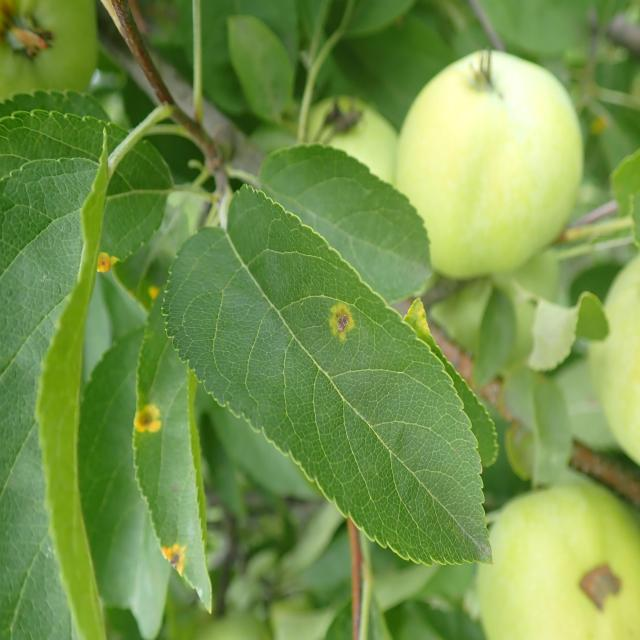Rust: (280, 295, 382, 376), (105, 386, 182, 451), (71, 225, 130, 299), (156, 514, 196, 604)
